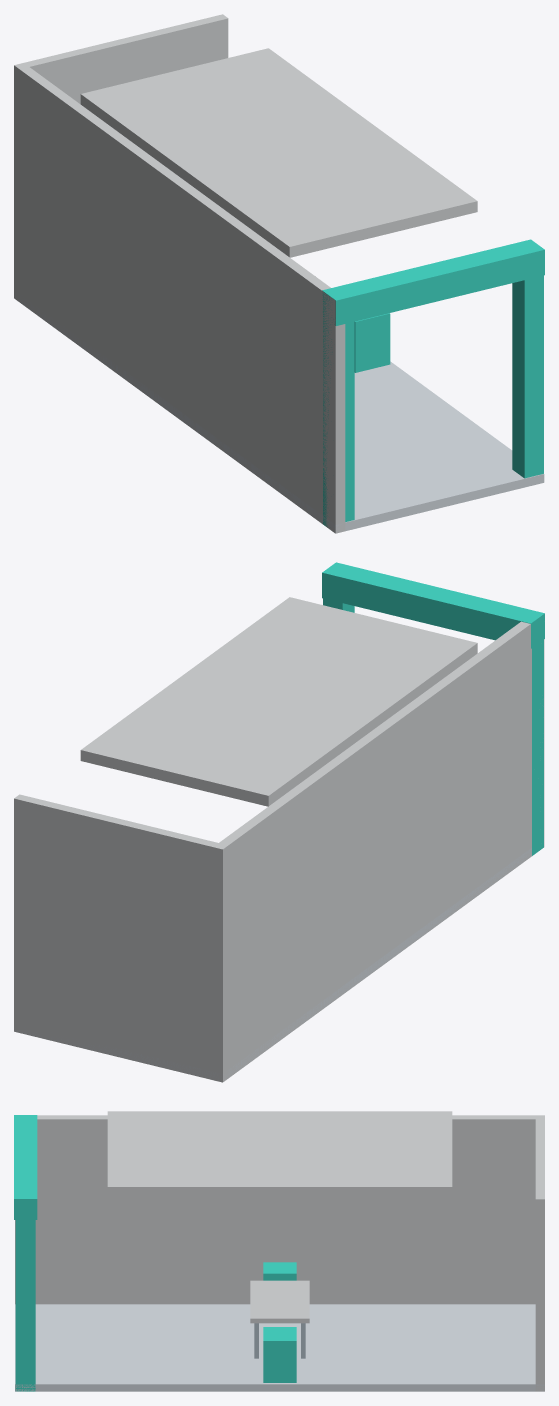
3 renders of one model, top to bottom at view 1: azimuth 30°, elevation 25°; view 2: azimuth 150°, elevation 25°; view 3: azimuth 270°, elevation 25°, orthographic. The views are drawn at different scales.
Parts seen in each view (by area): view 1: Exhibition Booth Concept; view 2: Exhibition Booth Concept; view 3: Exhibition Booth Concept.
Part boxes in pixels (box(x1,y1,x2,y2)): Exhibition Booth Concept: box(14, 14, 544, 533); Exhibition Booth Concept: box(14, 562, 544, 1082); Exhibition Booth Concept: box(14, 1111, 544, 1391).
Bounding box in the file's own units: 3 × 3.34 × 8.01.
